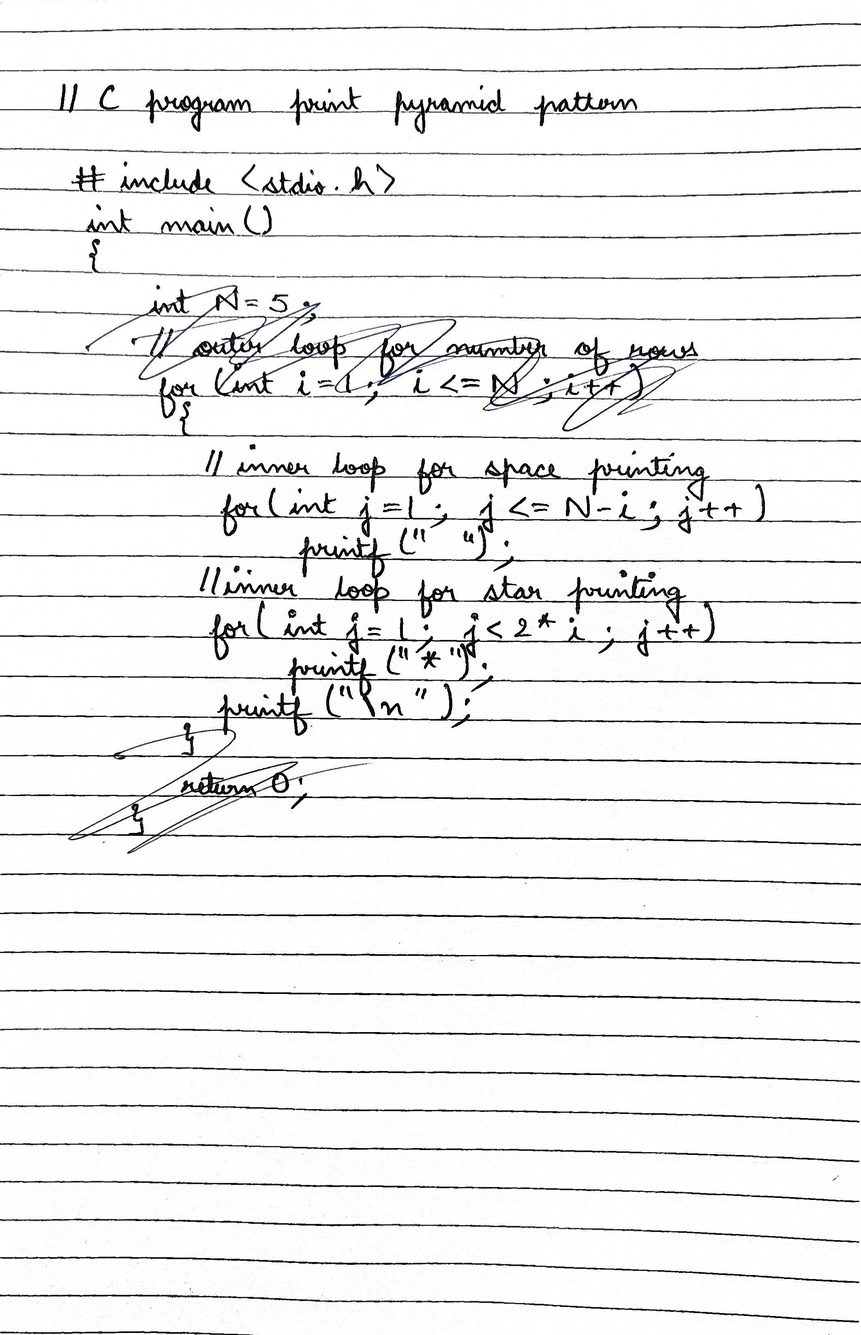cuttings: (83, 283, 701, 432), (63, 721, 375, 857)
